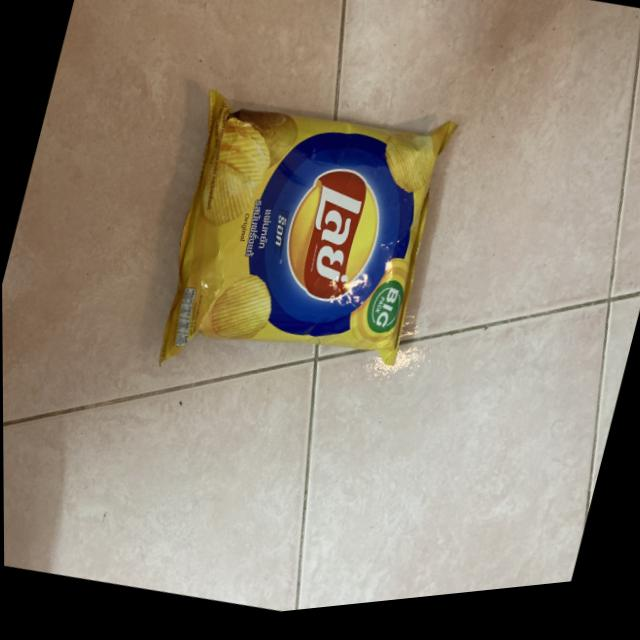LayYellow: (116, 50, 479, 455)
